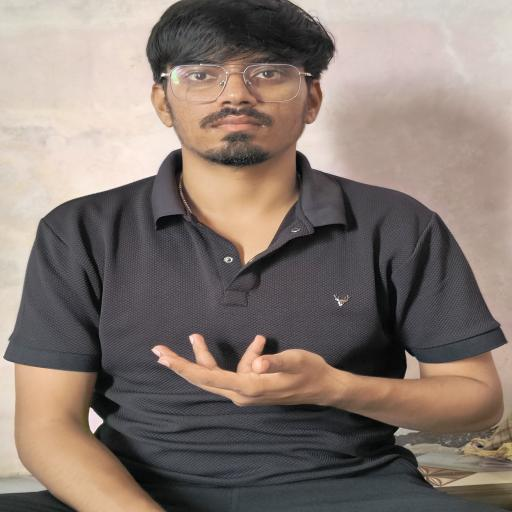Help: (138, 311, 387, 436)
